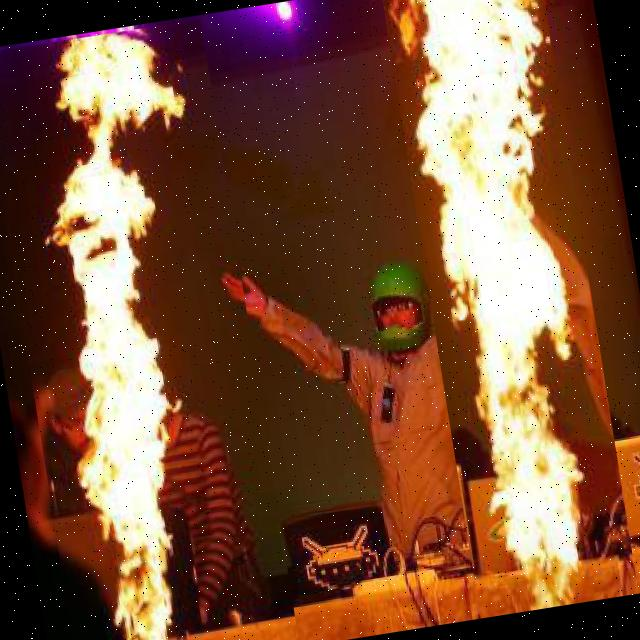fire: (0, 19, 299, 640), (380, 0, 638, 618)
